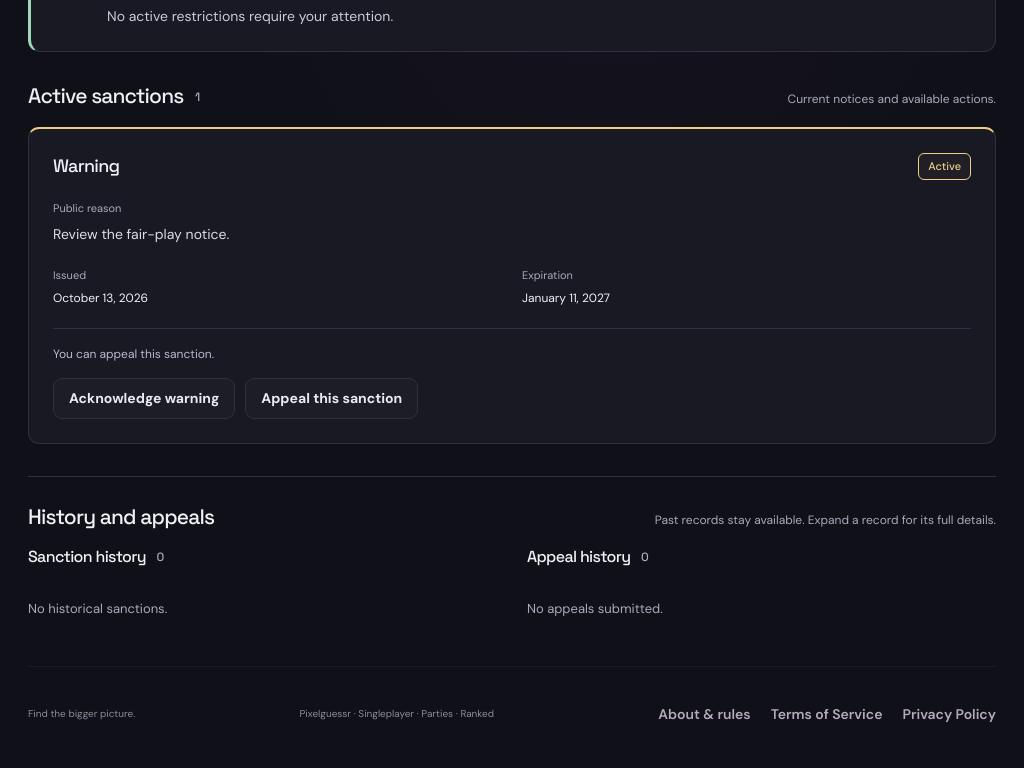
acknowledges a warning through the existing API and refreshes the restriction banner
The image size is (1024, 768).
(page scrolled)
Click the button "Acknowledge warning": coordinates (144, 398) [53,378,235,419]
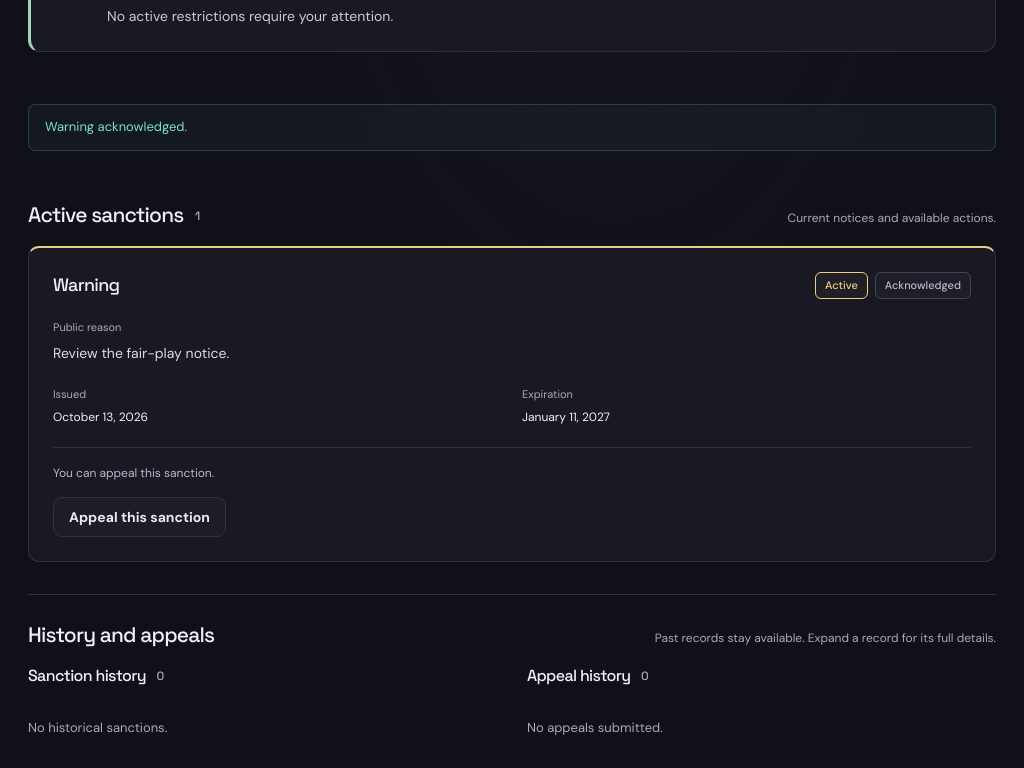
Expected: the button "Acknowledge warning" is not shown
Now the text "Warning acknowledged." is shown, box [28,104,996,151]
Now the text "Acknowledged" is shown, box [875,272,971,299]
